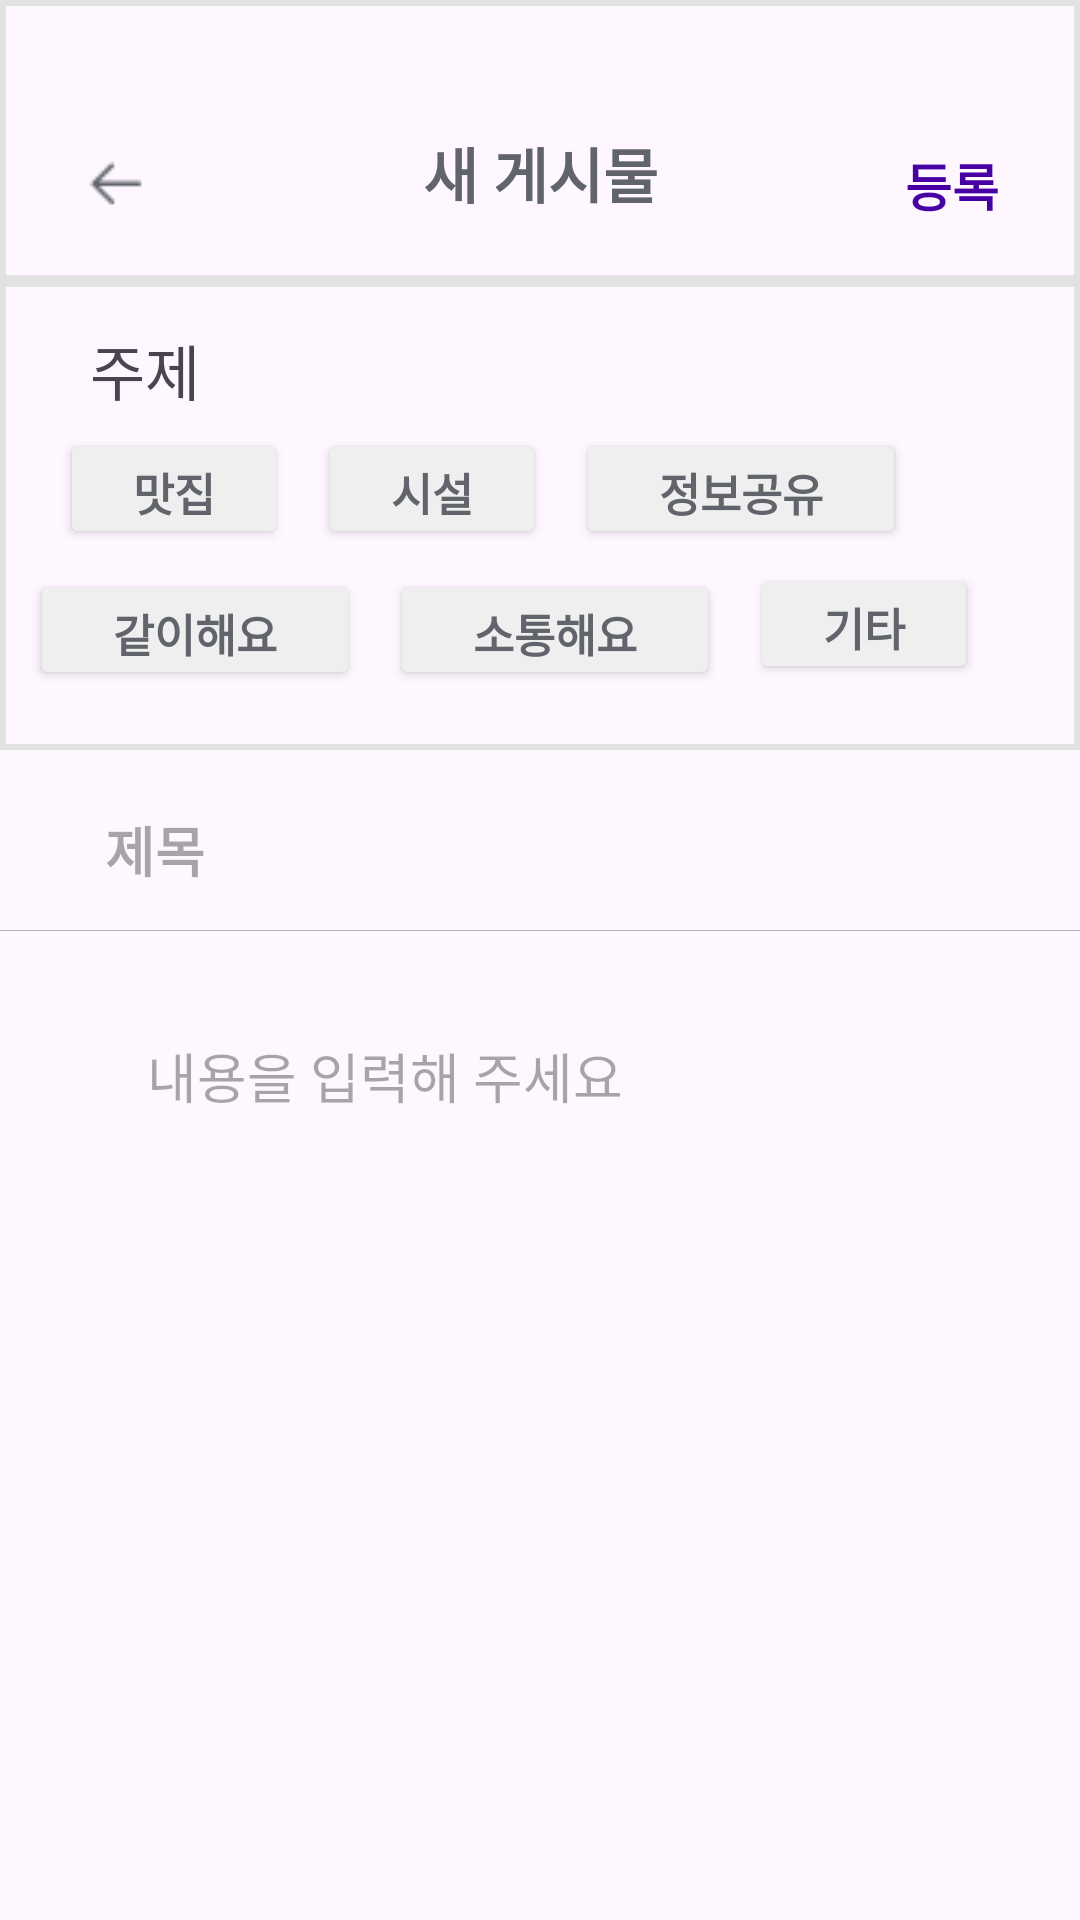

Where to tap for icons on this 1080 × 1920 app screen, as (x=x, y=y):
backbutton: (x=116, y=183)
